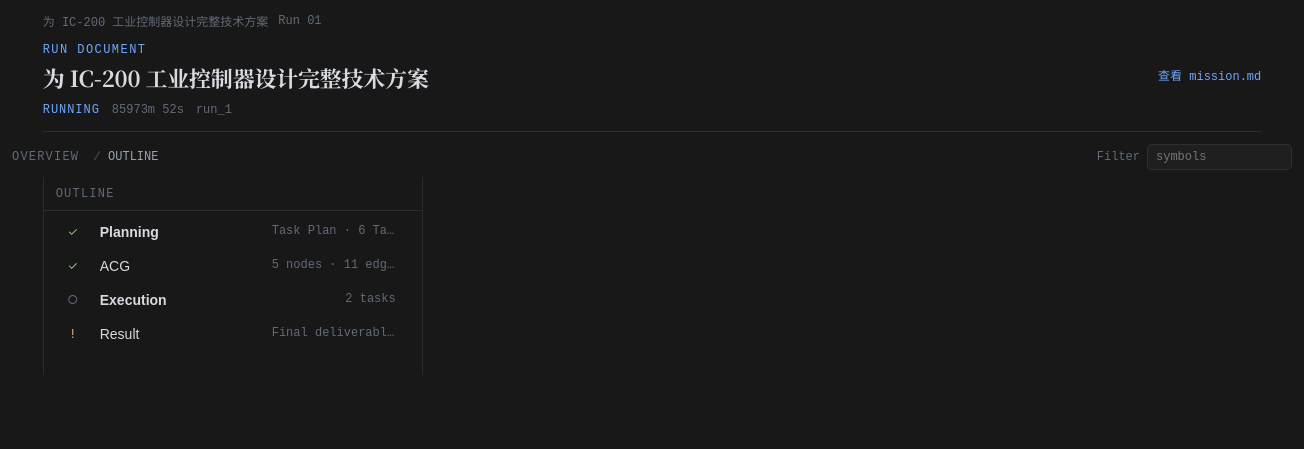
Test case: RunProgressEditor › renders a clickable directory path for the current run document
The width and height of the screenshot is (1304, 449).
Check: the navigation bar named "运行目录层级" shows "OUTLINE", box [108, 150, 158, 164]
Check: the element named "运行目录层级" does not show "Run 01"
Click the button with class "run-symbol__main" that starts with "Planning": [129, 232] box [94, 217, 402, 247]
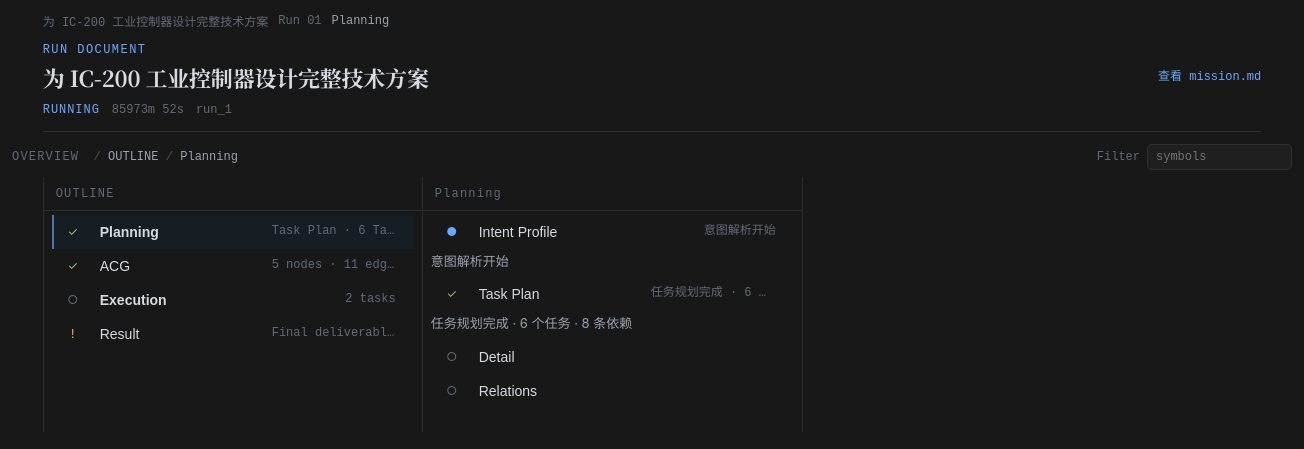
Check: the element named "运行目录层级" does not show "Intent Profile"
Check: the navigation bar named "运行目录层级" shows "Planning", box [180, 148, 238, 166]
